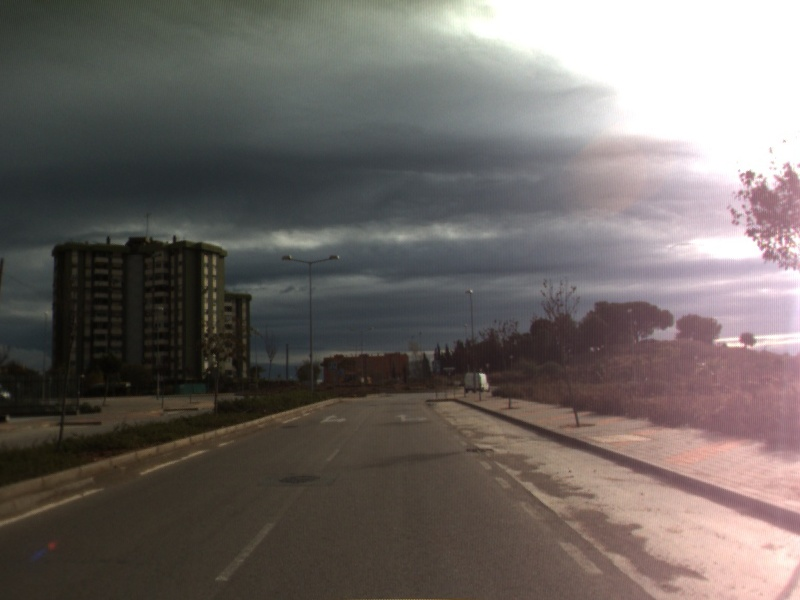STRAIGHT_RIGHT: (393, 412, 430, 424), (318, 412, 348, 425)
